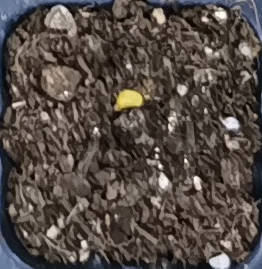pepper seed: (41, 34, 186, 145)
